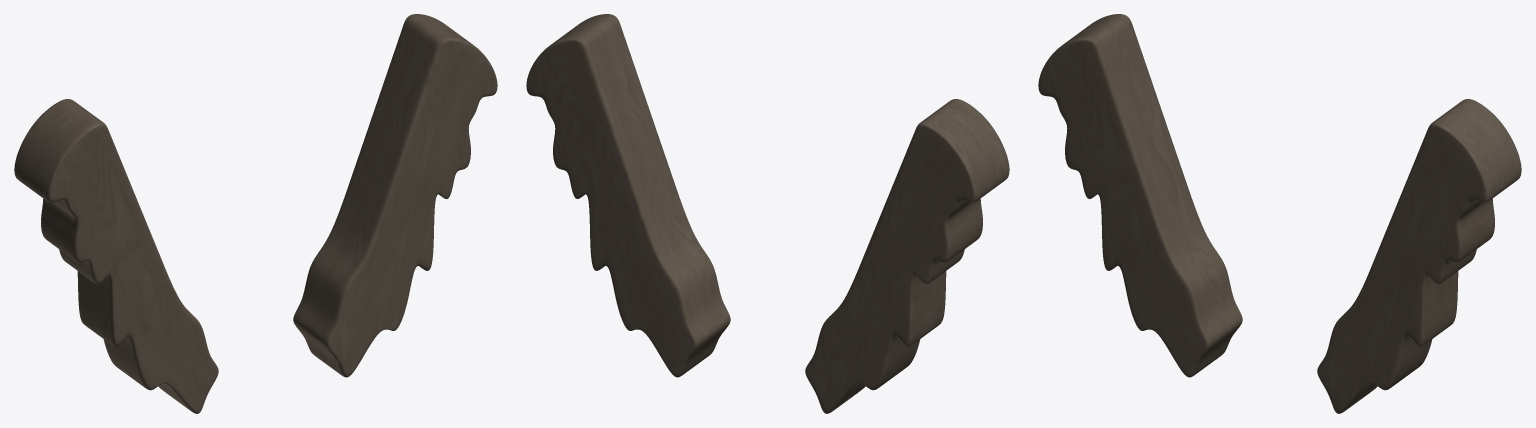
The model's file is pics_chevre.fbx.
3 renders of one model, left to right at view 1: azimuth 30°, elevation 25°; view 2: azimuth 150°, elevation 25°; view 3: azimuth 330°, elevation 25°, orthographic.
Visible parts, largest first — view 1: pics chevre; view 2: pics chevre; view 3: pics chevre.
Boxes of the visible parts, x1=… form: pics chevre: x1=14, y1=14, x2=497, y2=413; pics chevre: x1=526, y1=14, x2=1009, y2=413; pics chevre: x1=1038, y1=14, x2=1521, y2=413.
Bounding box in the file's own units: 70.26 × 47.04 × 9.73.
1 material, 1 textured.
